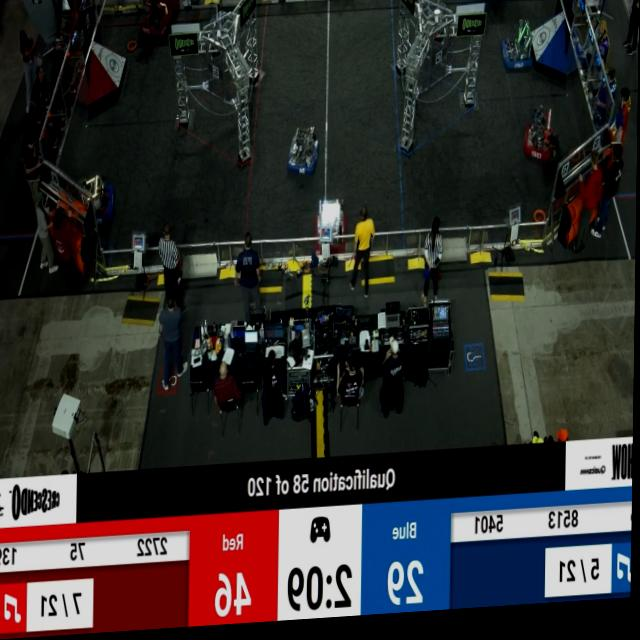Robot: (74, 168, 118, 233), (312, 191, 350, 263), (520, 109, 556, 175), (500, 27, 536, 82), (287, 127, 321, 185), (141, 0, 173, 43)
